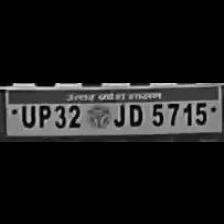1: (178, 100, 191, 124)
2: (64, 100, 82, 128)
3: (51, 101, 66, 127)
5: (146, 99, 166, 125), (190, 98, 208, 124)
7: (164, 99, 182, 125)
D: (124, 98, 144, 125)
J: (110, 98, 126, 125)
P: (34, 101, 52, 127)
U: (18, 100, 34, 125)
